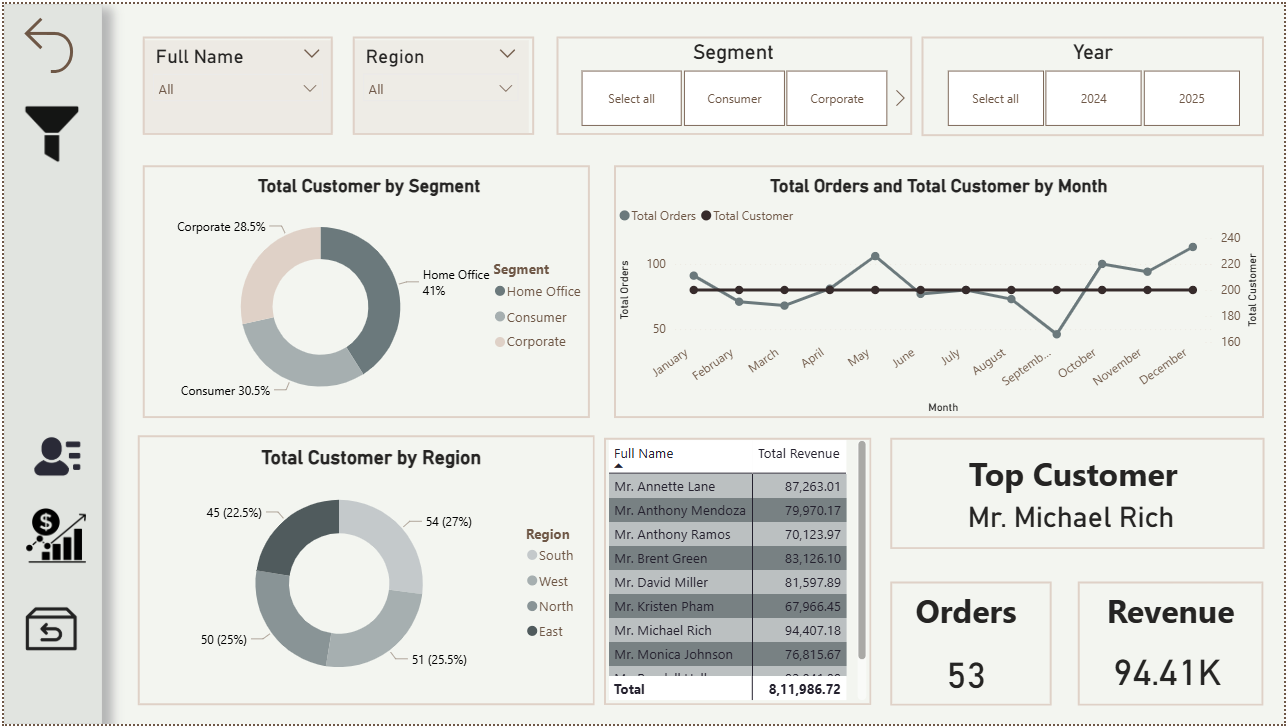

The dashboard page shown, as its layout file describes it:
{"tool":"powerbi","page":{"name":"Customer Analysis","canvas":[1280,720],"ordinal":1},"visuals":[{"type":"shape","box":[0,0,98.6,720],"z":0,"group":"g1"},{"type":"shape","box":[552.9,32.9,355.7,98.6],"z":0},{"type":"actionButton","box":[10,5.7,81.4,70],"z":1000,"group":"g1"},{"type":"slicer","title":"Segment","fields":{"Values":["Customer_Dim.Segment"]},"box":[551.1,36.1,356.4,92.3],"z":2000},{"type":"image","box":[7.1,100,81.4,60],"z":2000,"group":"g1"},{"type":"shape","box":[916.9,32.6,342.5,99.7],"z":3000},{"type":"image","box":[17.1,417.1,68.6,71.4],"z":3000,"group":"g1"},{"type":"shape","box":[138.6,32.9,190,98.6],"z":4000},{"type":"image","box":[21.4,498.6,61.4,65.7],"z":4000,"group":"g1"},{"type":"slicer","fields":{"Values":["Customer_Dim.Full Name"]},"box":[138.6,35.7,190,92.9],"z":5000},{"type":"image","box":[11.4,591.4,71.4,67.1],"z":5000,"group":"g1"},{"type":"shape","box":[348.6,32.9,181.4,98.6],"z":6000},{"type":"slicer","fields":{"Values":["Customer_Dim.Region"]},"box":[348.6,35.7,175.7,92.9],"z":7000},{"type":"shape","box":[138.6,161.4,447.1,252.9],"z":9000},{"type":"donutChart","fields":{"Category":["Customer_Dim.Segment"],"Y":["Measures Table.Total Customer"]},"box":[138.6,171.4,452.9,242.9],"z":10000},{"type":"shape","box":[134.3,431.4,457.1,270],"z":11000},{"type":"donutChart","fields":{"Category":["Customer_Dim.Region"],"Y":["Measures Table.Total Customer"]},"box":[144.3,442.9,447.1,252.9],"z":12000},{"type":"shape","box":[610,161.4,650,252.9],"z":13000},{"type":"lineChart","fields":{"Category":["Date_Dim.Date.Variation.Date Hierarchy.Month"],"Y":["Measures Table.Total Orders"],"Y2":["Measures Table.Total Customer"]},"box":[610,171.4,650,242.9],"z":14000},{"type":"shape","box":[885.7,434.3,374.3,111.4],"z":15000},{"type":"shape","box":[600,433.8,267.5,267.5],"z":16000},{"type":"pivotTable","fields":{"Rows":["Customer_Dim.Full Name"],"Values":["Measures Table.Total Revenue"]},"box":[600,431.2,267.5,270],"z":16500},{"type":"shape","box":[885.7,577.1,161.4,124.3],"z":17000},{"type":"card","fields":{"Values":["Sum(Sales_Fact.UnitsSold)"]},"box":[895.7,640,131.4,55.7],"z":18000},{"type":"card","fields":{"Values":["Min(Customer_Dim.Full Name)"]},"box":[924.3,480,287.1,61.4],"z":19000},{"type":"textbox","box":[910,442.9,327.1,64.3],"z":20000},{"type":"shape","box":[1074.3,577.1,185.7,124.3],"z":21000},{"type":"card","fields":{"Values":["Measures Table.Total Revenue"]},"box":[1097.1,637.1,131.4,55.7],"z":22000},{"type":"textbox","box":[885.7,580,151.4,60],"z":23000},{"type":"textbox","box":[1074.3,580,185.7,64.3],"z":24000},{"type":"slicer","title":"Year","fields":{"Values":["Date_Dim.Year"]},"box":[917.5,36.2,342.5,92.5],"z":24500},{"type":"group","id":"g1","title":"menu","box":[0,0,99.6,719.9],"z":25000}]}

Visuals, with their boxes in screenshot pixels (x1, y1, x2, y2), scaled from the page's 1280x720 canvas onto the 1288x728 screenshot:
shape: BBox(0, 0, 99, 727)
shape: BBox(556, 33, 914, 133)
actionButton: BBox(10, 6, 92, 77)
"Segment" slicer: BBox(555, 37, 913, 130)
image: BBox(7, 101, 89, 162)
shape: BBox(923, 33, 1267, 134)
image: BBox(17, 422, 86, 494)
shape: BBox(139, 33, 331, 133)
image: BBox(22, 504, 83, 571)
slicer - Customer_Dim.Full Name: BBox(139, 36, 331, 130)
image: BBox(11, 598, 83, 666)
shape: BBox(351, 33, 533, 133)
slicer - Customer_Dim.Region: BBox(351, 36, 528, 130)
shape: BBox(139, 163, 589, 419)
donutChart - Customer_Dim.Segment x Measures Table.Total Customer: BBox(139, 173, 595, 419)
shape: BBox(135, 436, 595, 709)
donutChart - Customer_Dim.Region x Measures Table.Total Customer: BBox(145, 448, 595, 704)
shape: BBox(614, 163, 1268, 419)
lineChart - Date_Dim.Date.Variation.Date Hierarchy.Month x Measures Table.Total Orders: BBox(614, 173, 1268, 419)
shape: BBox(891, 439, 1268, 552)
shape: BBox(604, 439, 873, 709)
pivotTable - Customer_Dim.Full Name x Measures Table.Total Revenue: BBox(604, 436, 873, 709)
shape: BBox(891, 584, 1054, 709)
card - Sum(Sales_Fact.UnitsSold): BBox(901, 647, 1034, 703)
card - Min(Customer_Dim.Full Name): BBox(930, 485, 1219, 547)
textbox: BBox(916, 448, 1245, 513)
shape: BBox(1081, 584, 1268, 709)
card - Measures Table.Total Revenue: BBox(1104, 644, 1236, 700)
textbox: BBox(891, 586, 1044, 647)
textbox: BBox(1081, 586, 1268, 651)
"Year" slicer: BBox(923, 37, 1268, 130)
"menu" group: BBox(0, 0, 100, 727)
